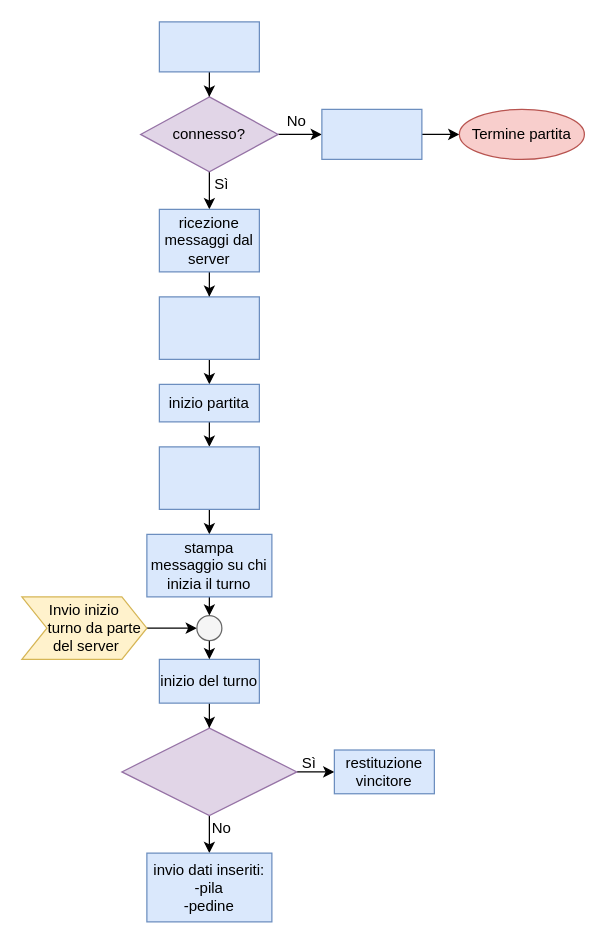
The diagram is 606 pixels wide and 944 high, and some of its shapes have lost their labels. The shapes that lost their labels are listed below. From the top down, each one's box as (x1, y1, x2, y2) in pixels, then its label:
(158, 21, 259, 72): connessione al server
(321, 108, 422, 159): connessione fallita
(158, 296, 259, 359): stampa messaggi su stdout
(158, 446, 259, 509): stampa messaggio partita iniziata
(121, 727, 297, 816): controllo presenza del vincitore
